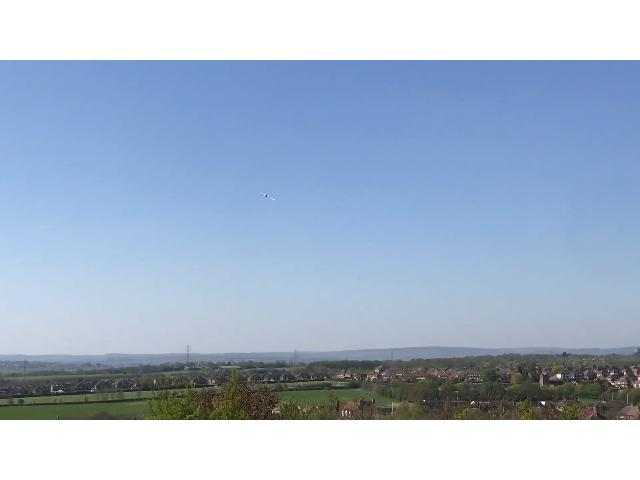Anti-Drone: (256, 188, 284, 205)
